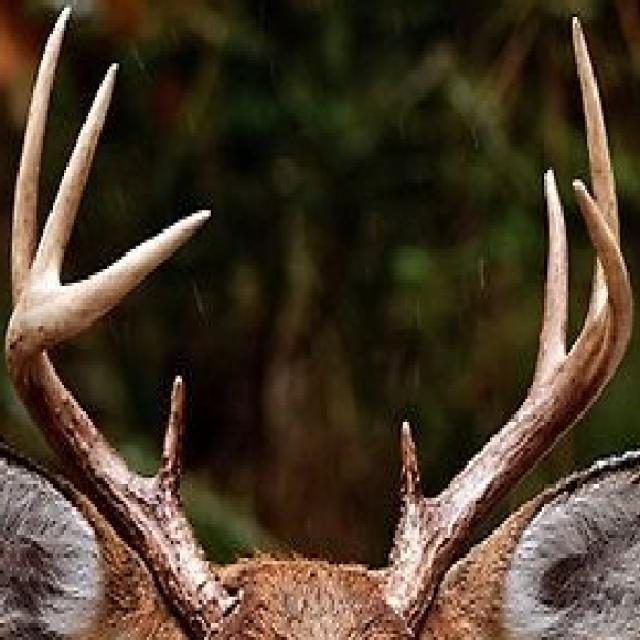L-F: (378, 178, 635, 634)
L-G1: (398, 417, 424, 517)
L-G2: (534, 164, 570, 379)
R-F: (6, 210, 244, 639)
R-G1: (152, 372, 186, 507)
R-G3: (17, 58, 119, 304)
